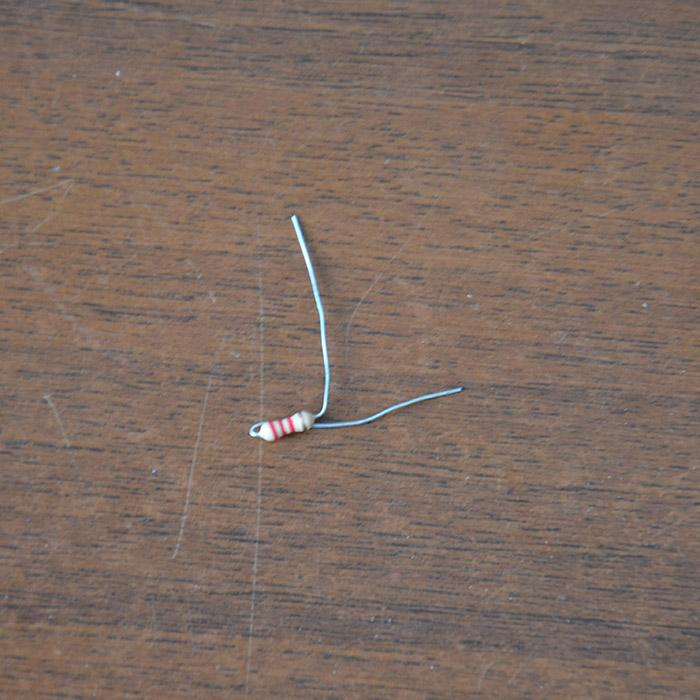resistor: (252, 410, 315, 442)
